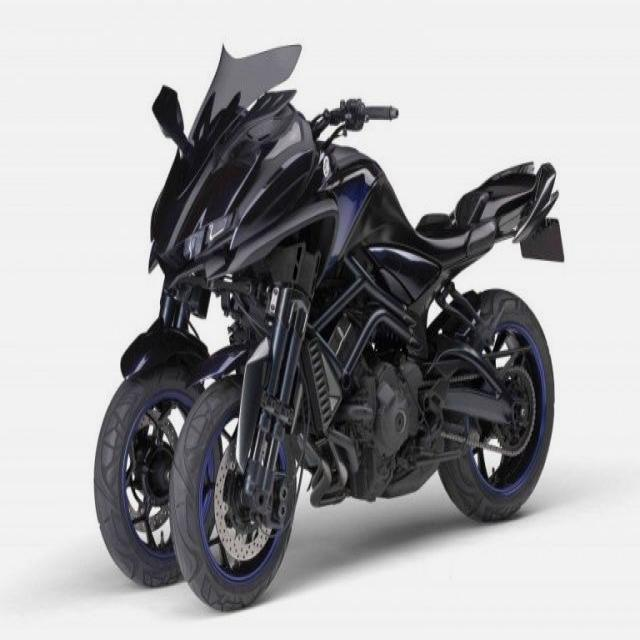MOTORCYCLE: (95, 44, 567, 608)
